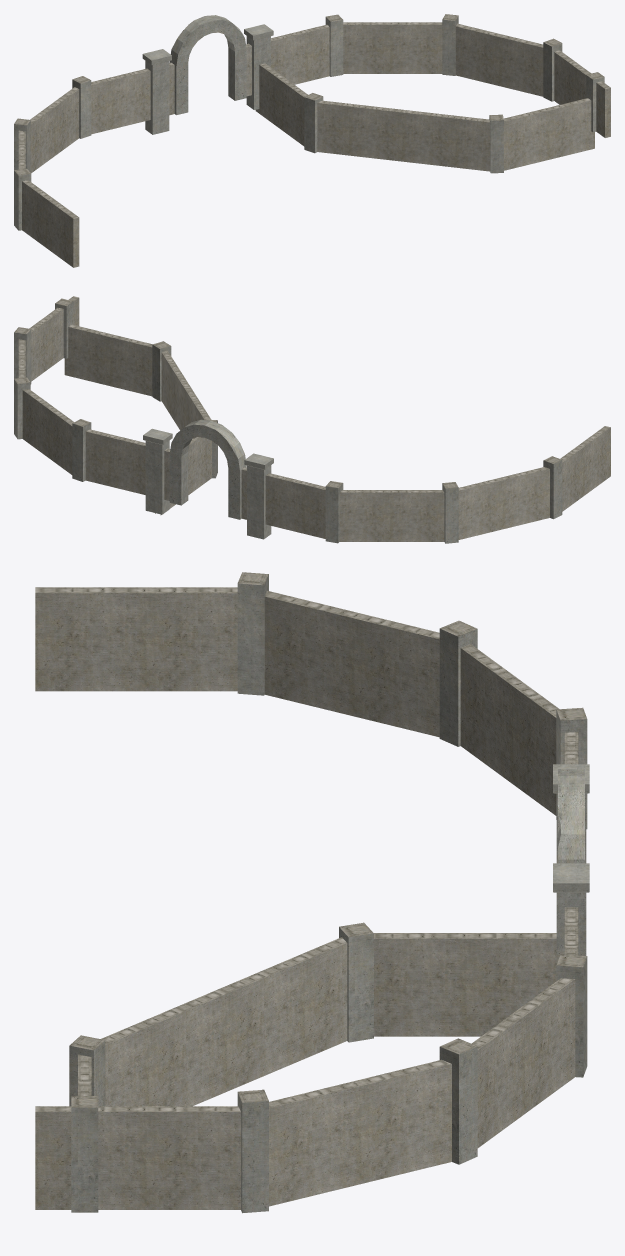
File: poi_all_corral_half_64x64_s02_l0.fbx
3 views of the same model, one above another, from view 1: azimuth 30°, elevation 25°; view 2: azimuth 150°, elevation 25°; view 3: azimuth 270°, elevation 25° (orthographic). The views are drawn at different scales.
Visible parts, largest first — view 1: mesh_node; view 2: mesh_node; view 3: mesh_node.
Part boxes in pixels (left/top/right/bottom): mesh_node: left=14, top=14, right=610, bottom=267; mesh_node: left=14, top=296, right=610, bottom=543; mesh_node: left=35, top=572, right=589, bottom=1213.
Size of the model in its own units: 46.43 by 8.5 by 20.48.
